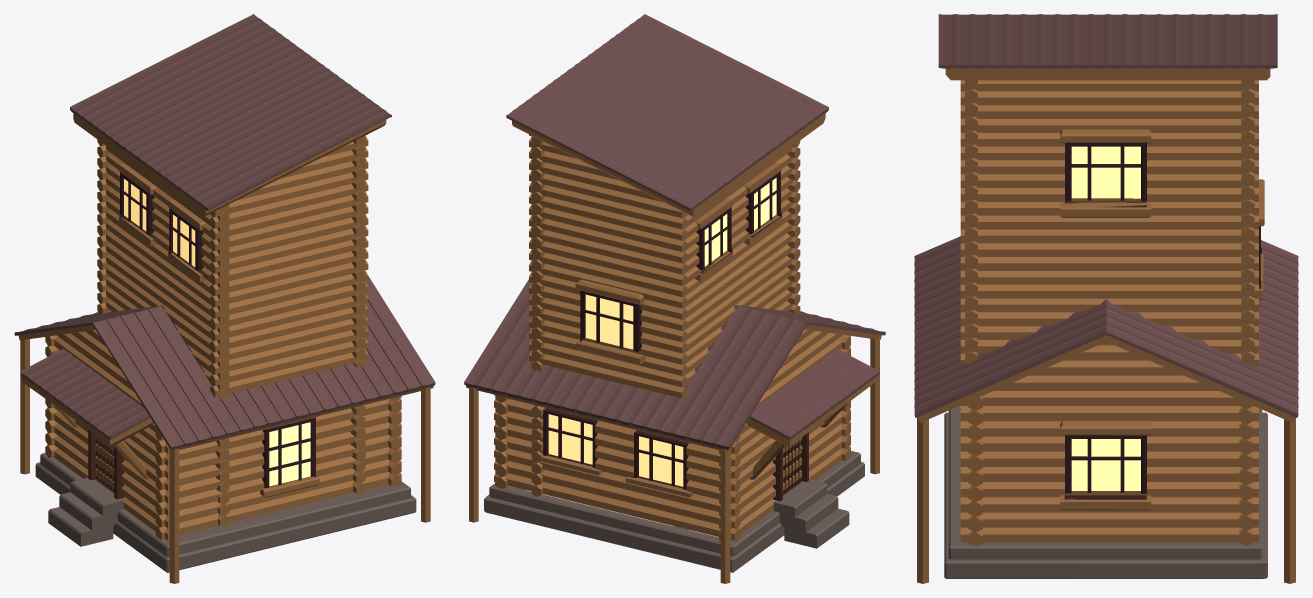
The model's file is house_wood_3f_1x1.glb.
The picture shows the model from 3 angles, left to right: view 1: azimuth 30°, elevation 25°; view 2: azimuth 150°, elevation 25°; view 3: azimuth 270°, elevation 25°; orthographic projection. The views are drawn at different scales.
Visible parts, largest first — view 1: w3F1to1; view 2: w3F1to1; view 3: w3F1to1.
Part boxes in pixels (bbox=[...]): w3F1to1: bbox=[14, 14, 435, 583]; w3F1to1: bbox=[464, 14, 885, 583]; w3F1to1: bbox=[914, 14, 1298, 583].
Bounding box in the file's own units: 8.82 × 11.79 × 8.2.
